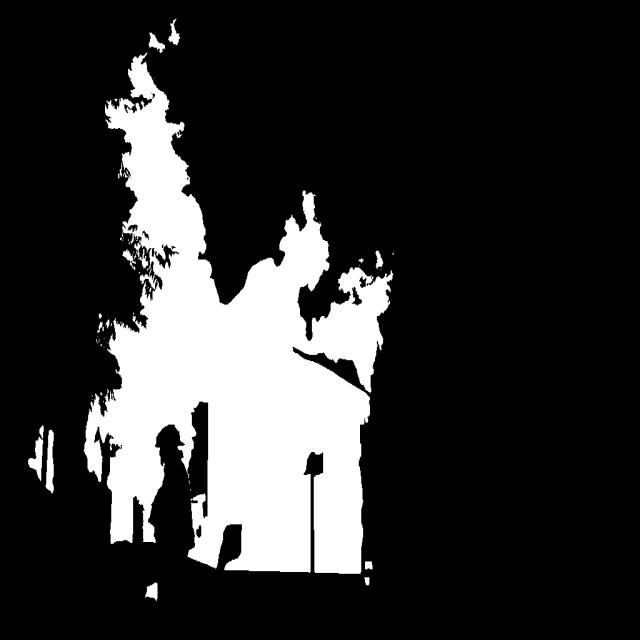fire: (48, 60, 416, 605)
